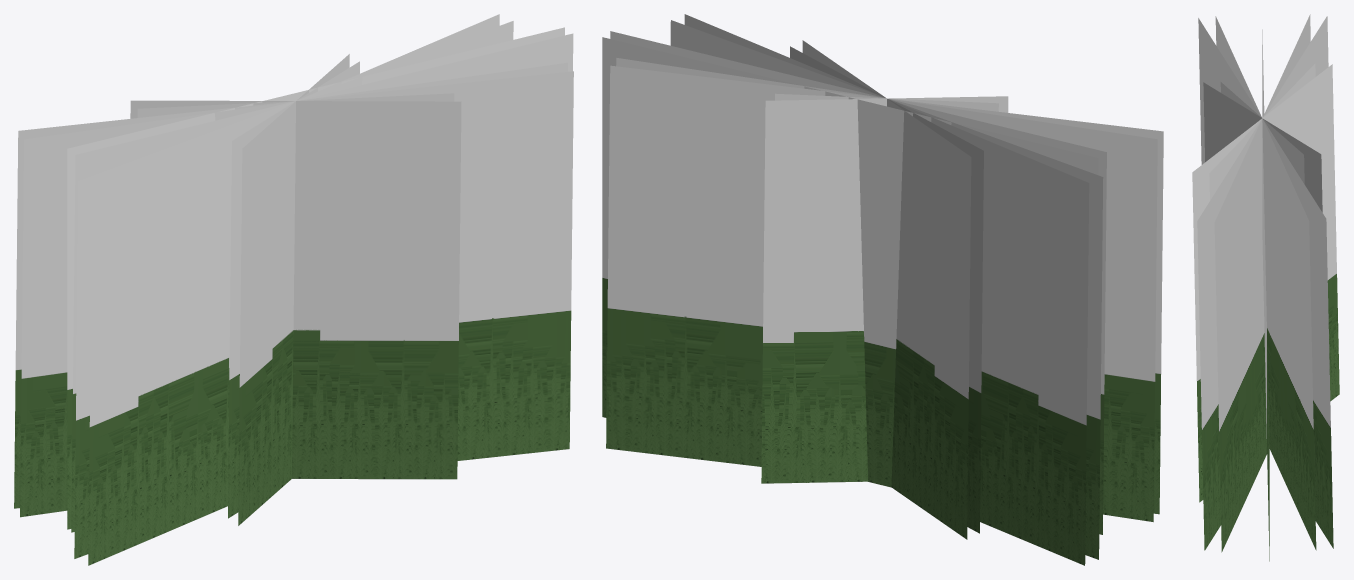
File: ShrubberyGrass_01_v01.obj
3 views of the same model, side by side, from view 1: azimuth 30°, elevation 25°; view 2: azimuth 150°, elevation 25°; view 3: azimuth 270°, elevation 25° (orthographic). The views are drawn at different scales.
Parts seen in each view (by area): view 1: polySurface3; view 2: polySurface3; view 3: polySurface3.
Part boxes in pixels (x1,y1,x2,y2): polySurface3: (14,14,573,565); polySurface3: (602,14,1163,565); polySurface3: (1192,14,1339,561).
Bounding box in the file's own units: 37.76 × 26.54 × 10.65.
1 material, 1 textured.
